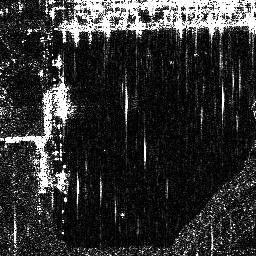ship: (55, 81, 71, 123)
